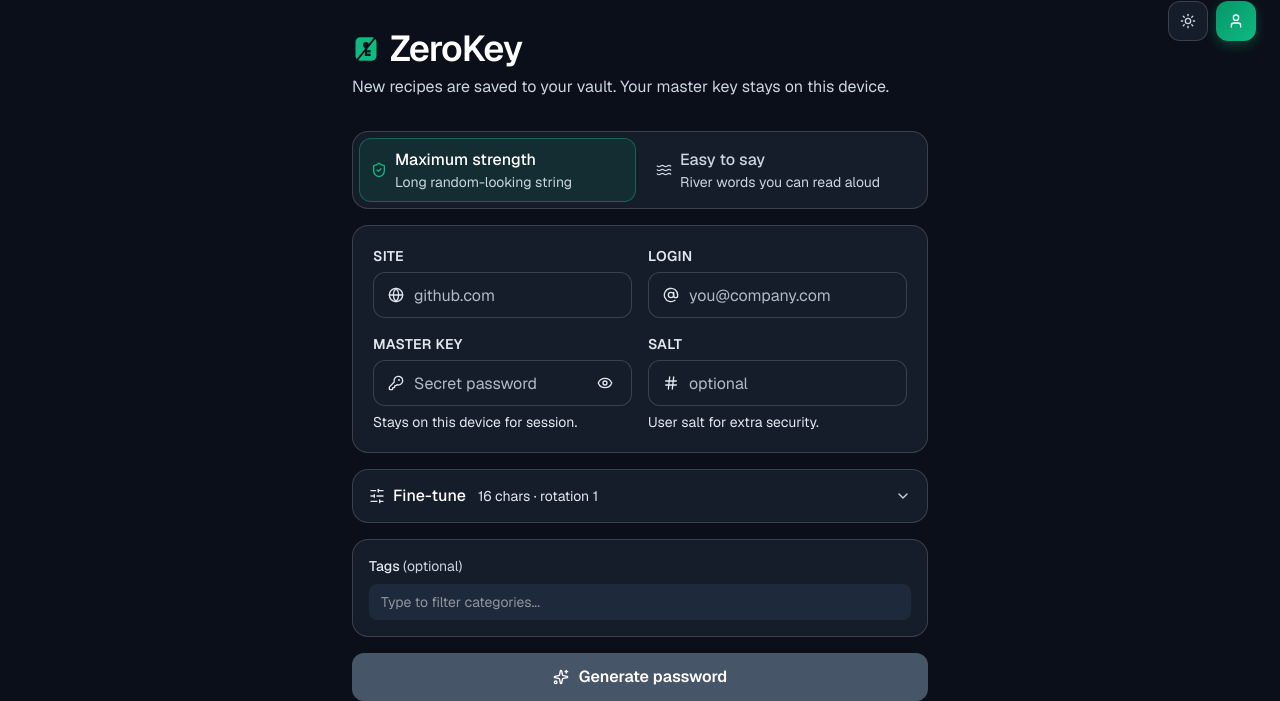
Scenario: signed-in homepage recipe autosave › creates the first recipe and displays its original password
Type "example.com" into the field with placeholder "github.com" at [516, 295], box left=414, top=273, right=617, bottom=317
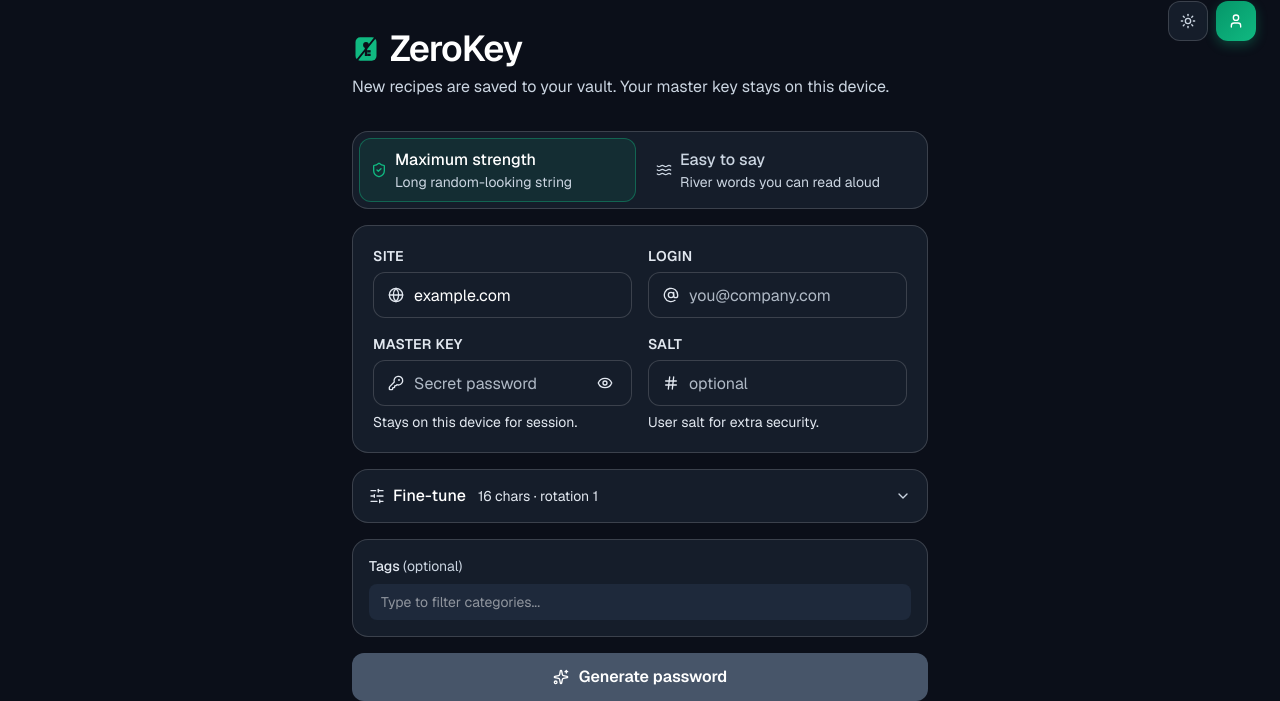
Type "fixture@example.com" into the field with placeholder "you@company.com" at [790, 295], box left=689, top=273, right=892, bottom=317
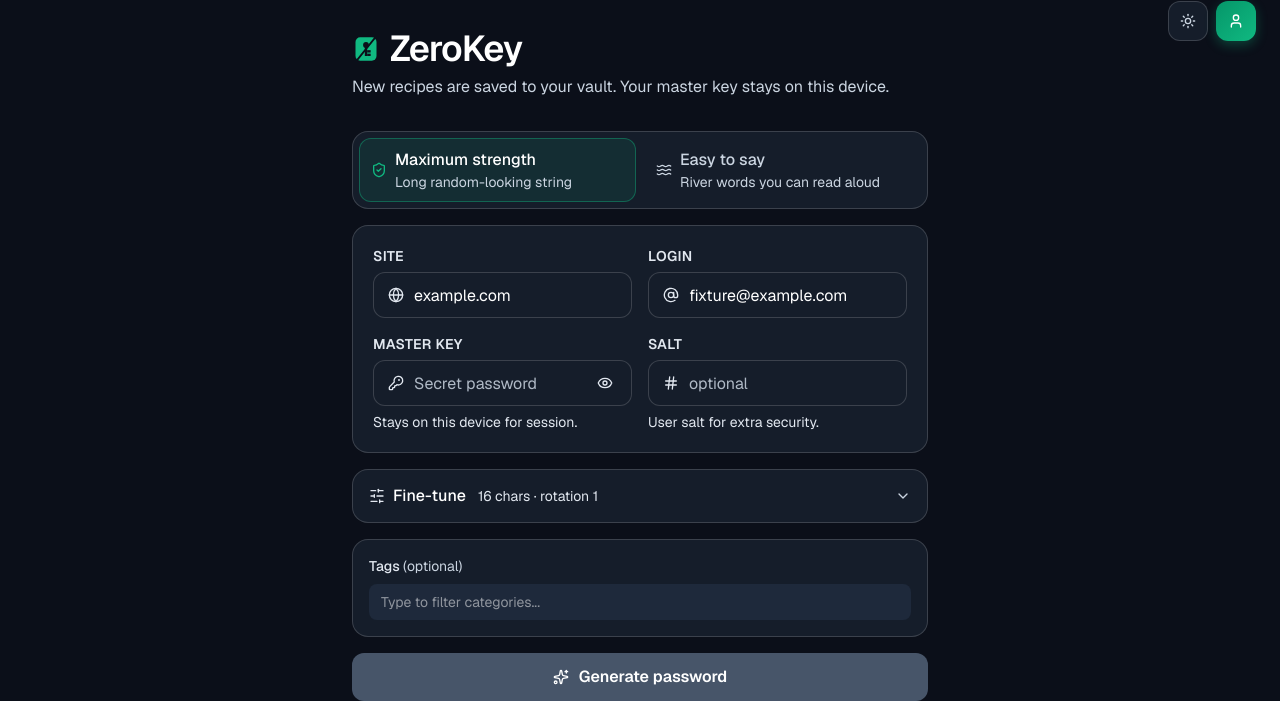
Type "Synthetic master 01" into the password field with placeholder "Secret password" at [498, 383], box left=414, top=361, right=583, bottom=405
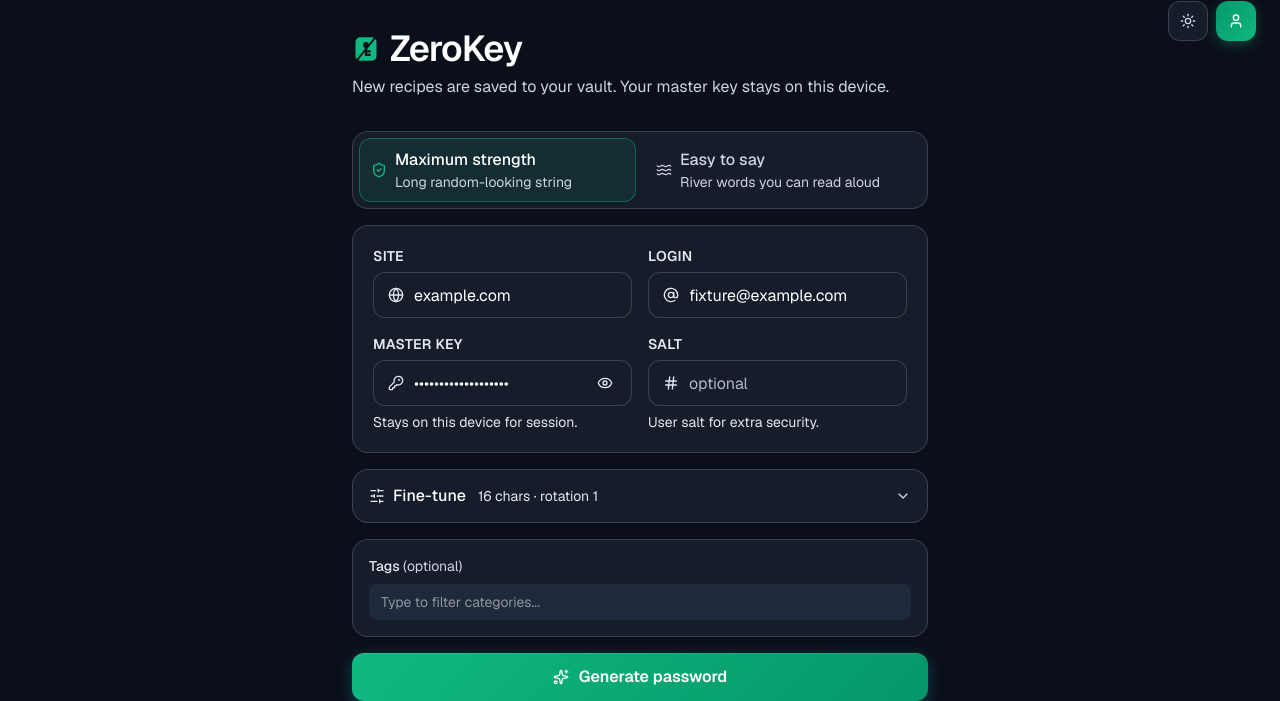
Click the button "Generate password" at [640, 677], box left=352, top=653, right=928, bottom=700
(page scrolled)
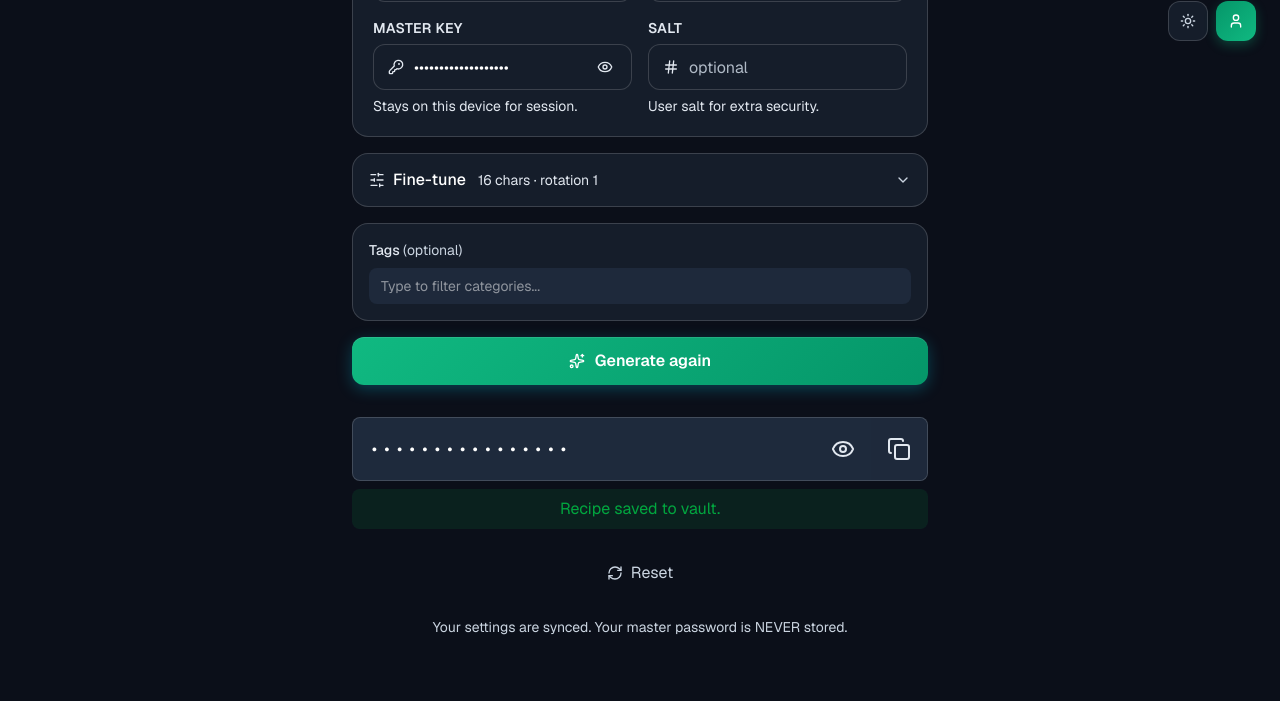
Now the text "Recipe saved to vault." is shown, box left=352, top=489, right=928, bottom=529
Click the button named "Show password" at [843, 449], box left=815, top=418, right=871, bottom=480
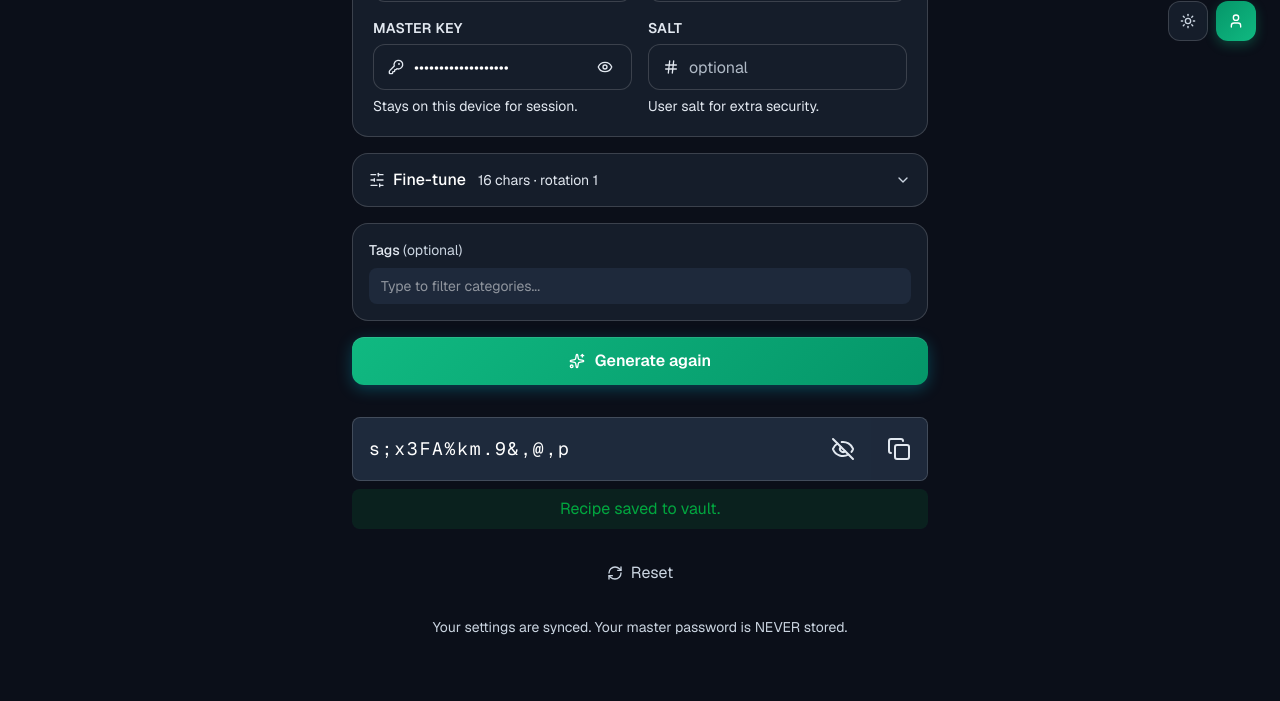
Now the text named "Password visible" reads "s;x3FA%km.9&,@,p", box left=369, top=437, right=571, bottom=460
